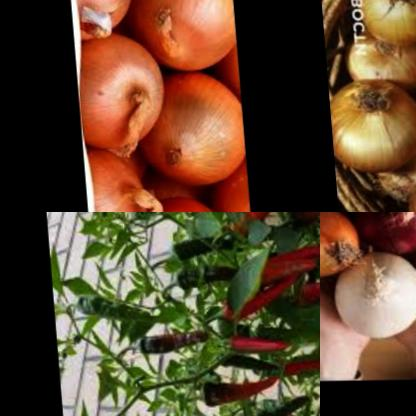hot pepper: (217, 273, 307, 327), (189, 366, 285, 416), (246, 238, 320, 288), (61, 292, 168, 325), (128, 322, 203, 363), (215, 329, 293, 368), (164, 257, 242, 293), (167, 228, 241, 262), (267, 351, 320, 385), (288, 266, 320, 313), (232, 212, 305, 231), (117, 212, 192, 229)
onion: (59, 0, 245, 212), (320, 0, 416, 212), (325, 252, 416, 341), (341, 212, 416, 258), (320, 212, 360, 280)
